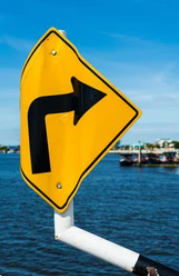Turn right: (1, 24, 136, 213)
